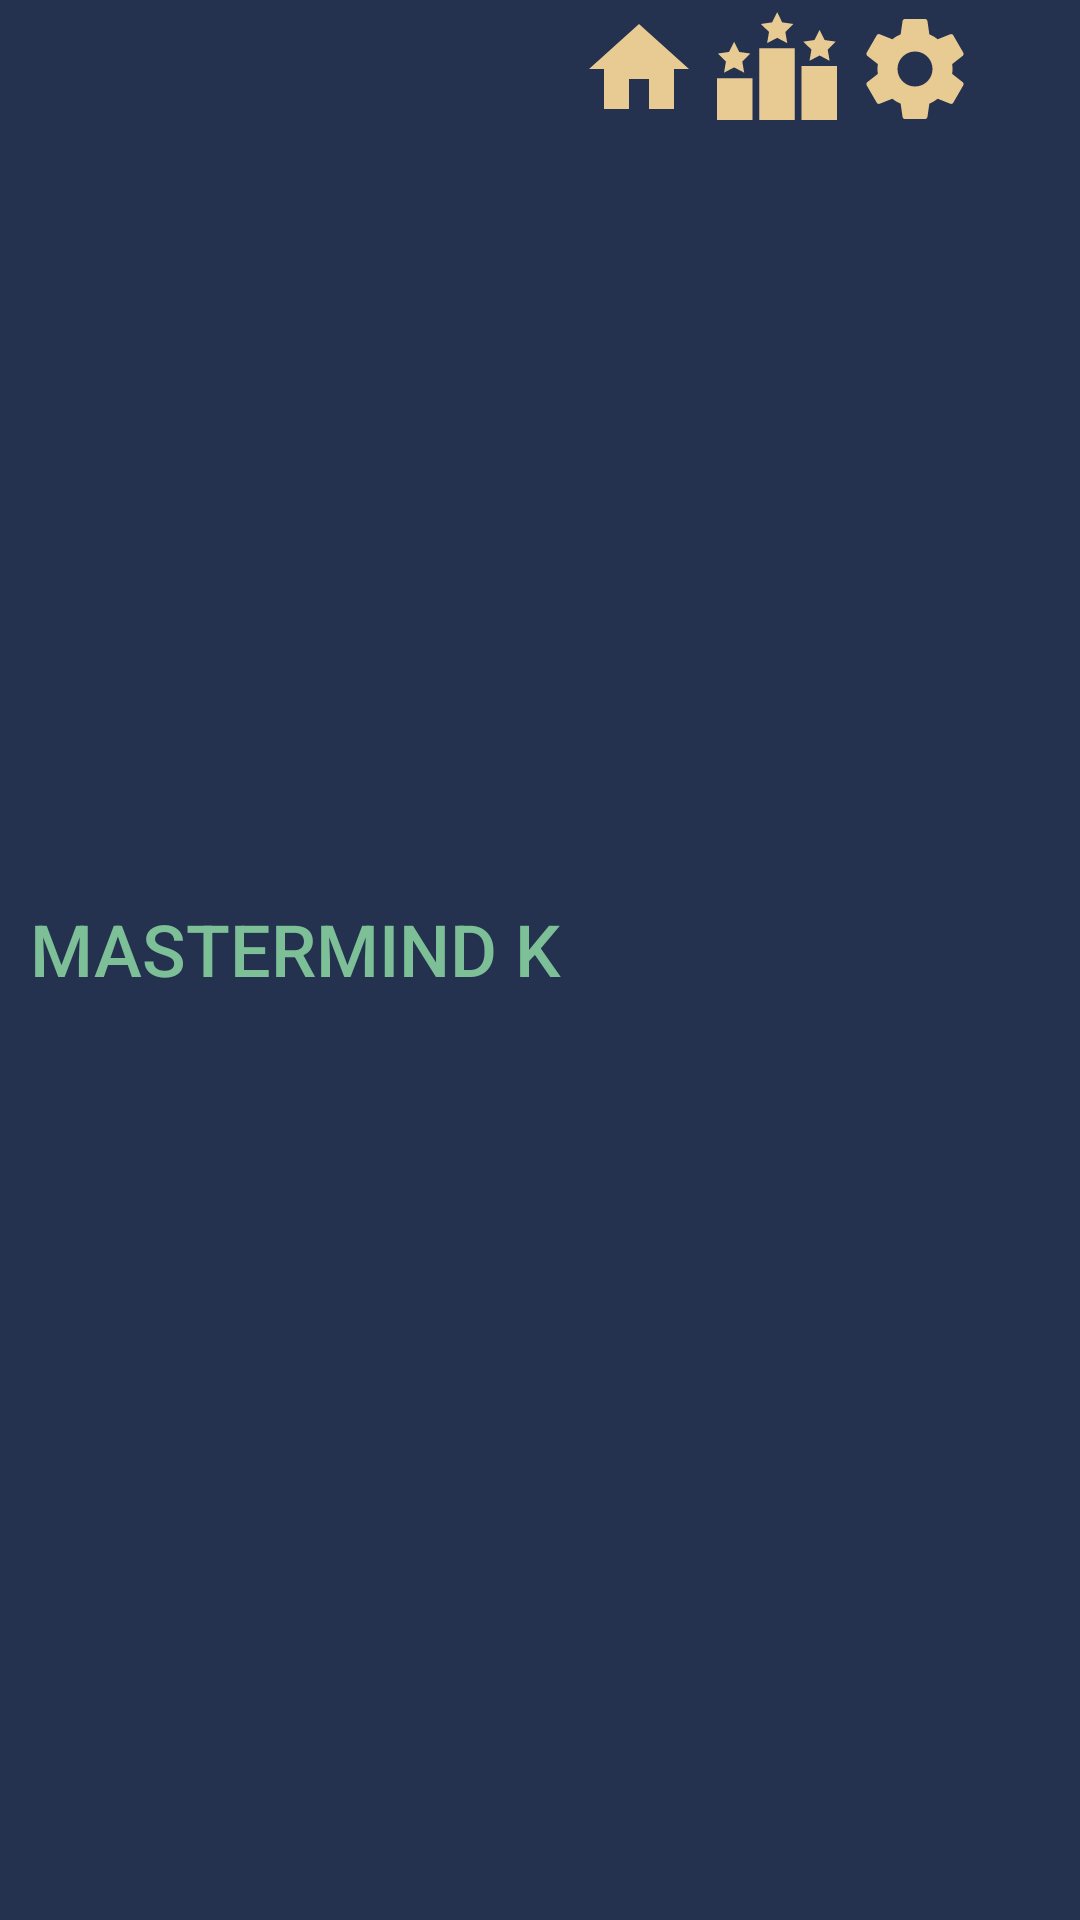

Icons on this 1080 x 1920 Android screen, each with its box as (x1, y1, x2, y2):
home: (589, 24, 689, 109)
rank: (717, 12, 837, 120)
settings: (866, 19, 964, 119)
